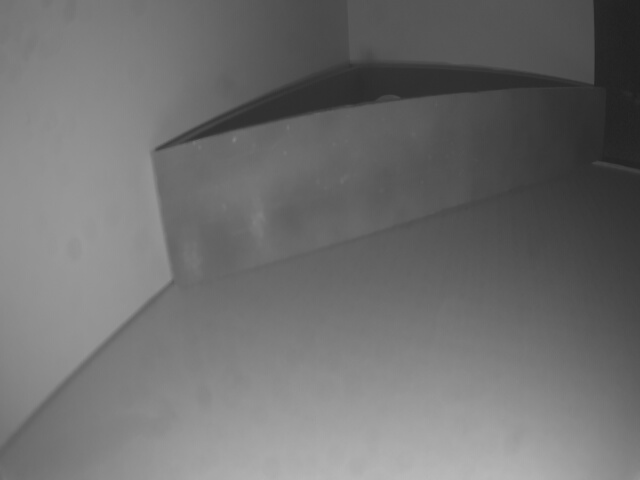Green: (150, 88, 607, 287)
